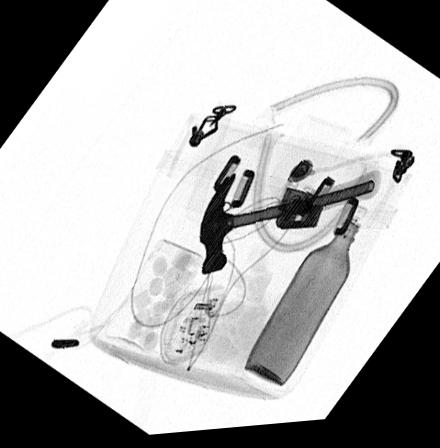Hammer: (199, 176, 383, 278)
